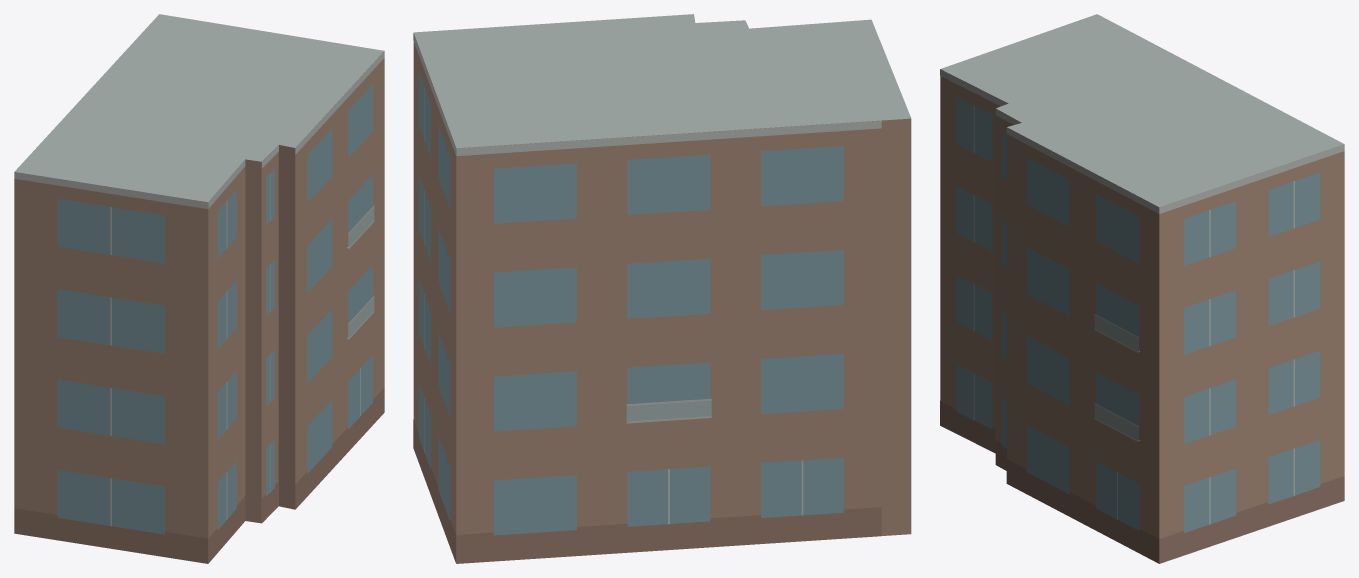
Rendered from survey-upis-32506488.glb.
3 renders of one model, left to right at view 1: azimuth 30°, elevation 25°; view 2: azimuth 150°, elevation 25°; view 3: azimuth 270°, elevation 25°, orthographic. The views are drawn at different scales.
Visible parts, largest first — view 1: survey-upis-32506488.tmp; view 2: survey-upis-32506488.tmp; view 3: survey-upis-32506488.tmp.
Boxes of the visible parts, x1=… form: survey-upis-32506488.tmp: x1=14, y1=14, x2=384, y2=563; survey-upis-32506488.tmp: x1=413, y1=14, x2=911, y2=563; survey-upis-32506488.tmp: x1=940, y1=14, x2=1344, y2=563.
Bounding box in the file's own units: 14.89 × 12.8 × 13.17.
